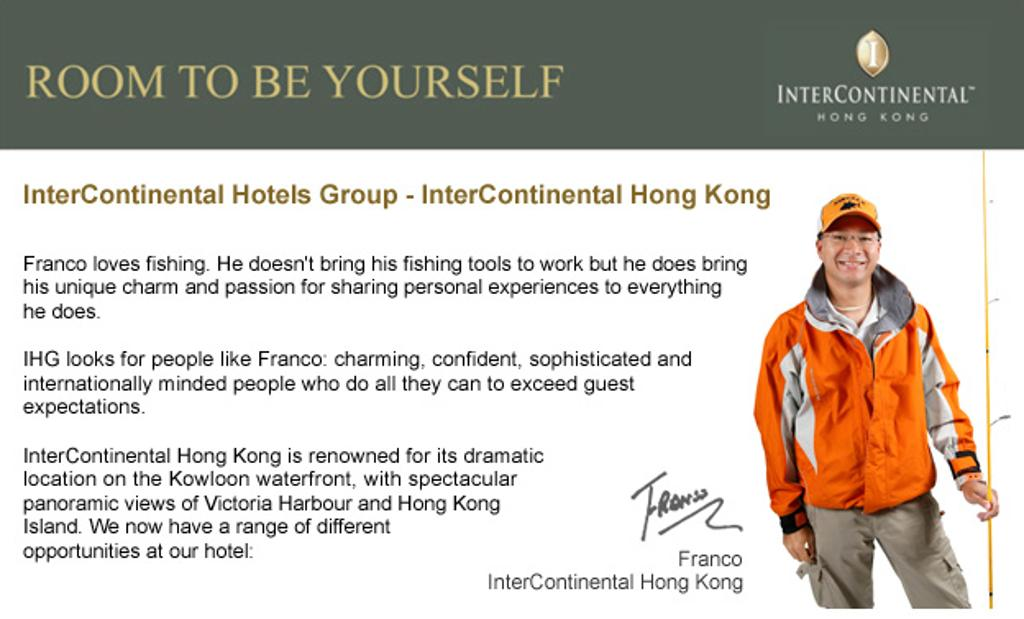face: (826, 216, 880, 280)
